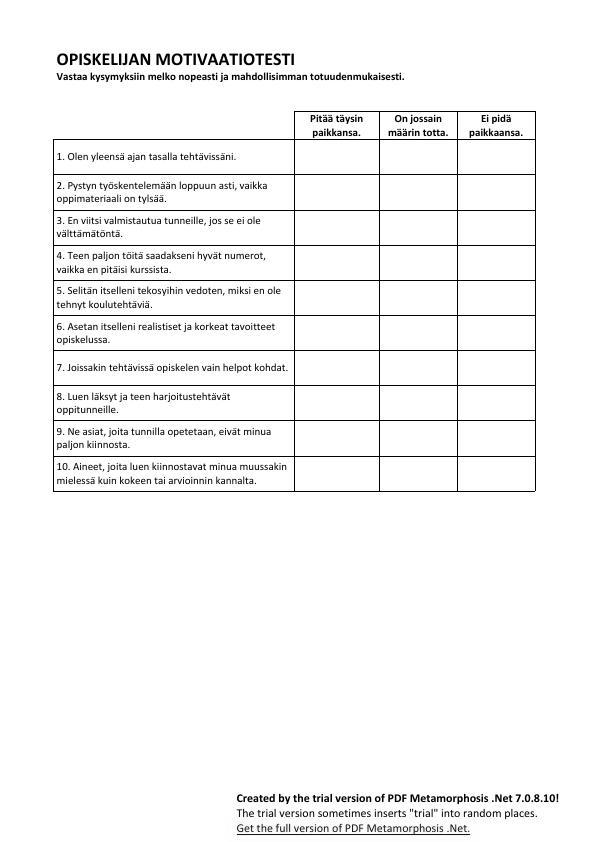table: (48, 104, 544, 502)
text: (227, 787, 562, 838), (49, 46, 408, 87)
